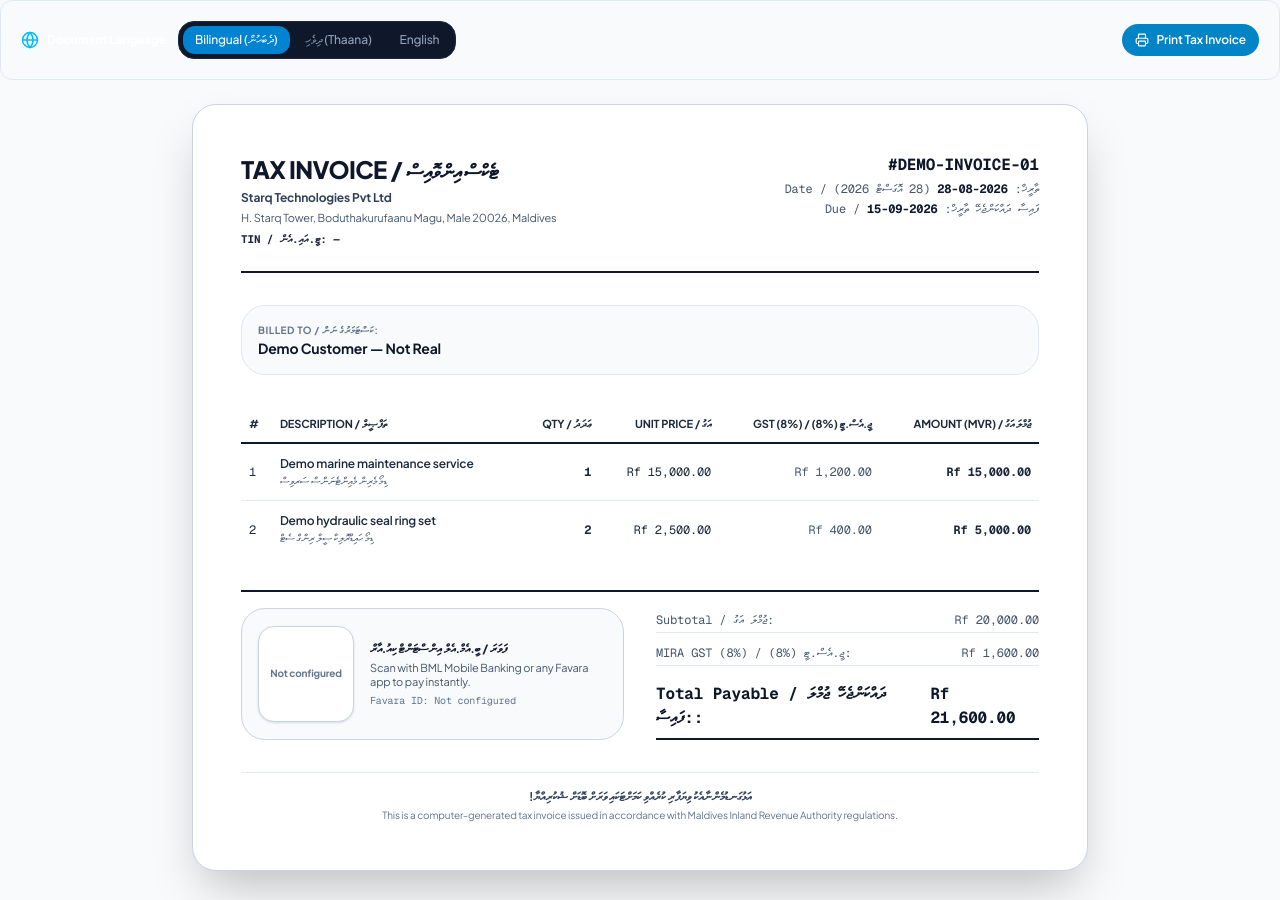
Test: SERP-323: Bilingual Dhivehi (Thaana) & English Invoice Print Interface › switches between Bilingual, Dhivehi Only, and English Only view modes
The image size is (1280, 900).
Click the button "ދިވެހި (Thaana)". click: (339, 40)
box: [294,26,384,54]
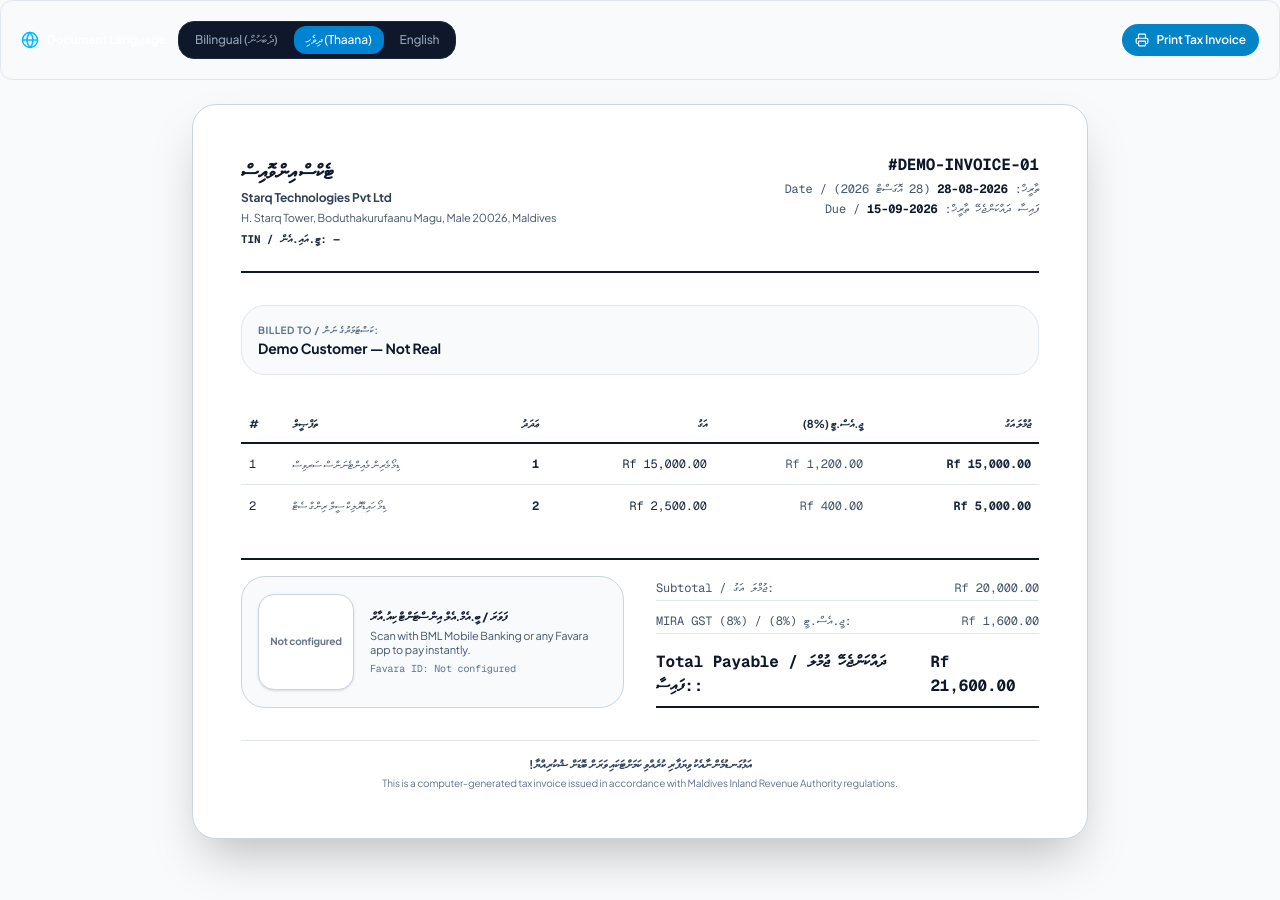
Expected: the text "ޓެކްސް އިންވޮއިސް" is shown, [241,159,332,185]
Click the button "English". click: (420, 40)
box: [388,26,451,54]
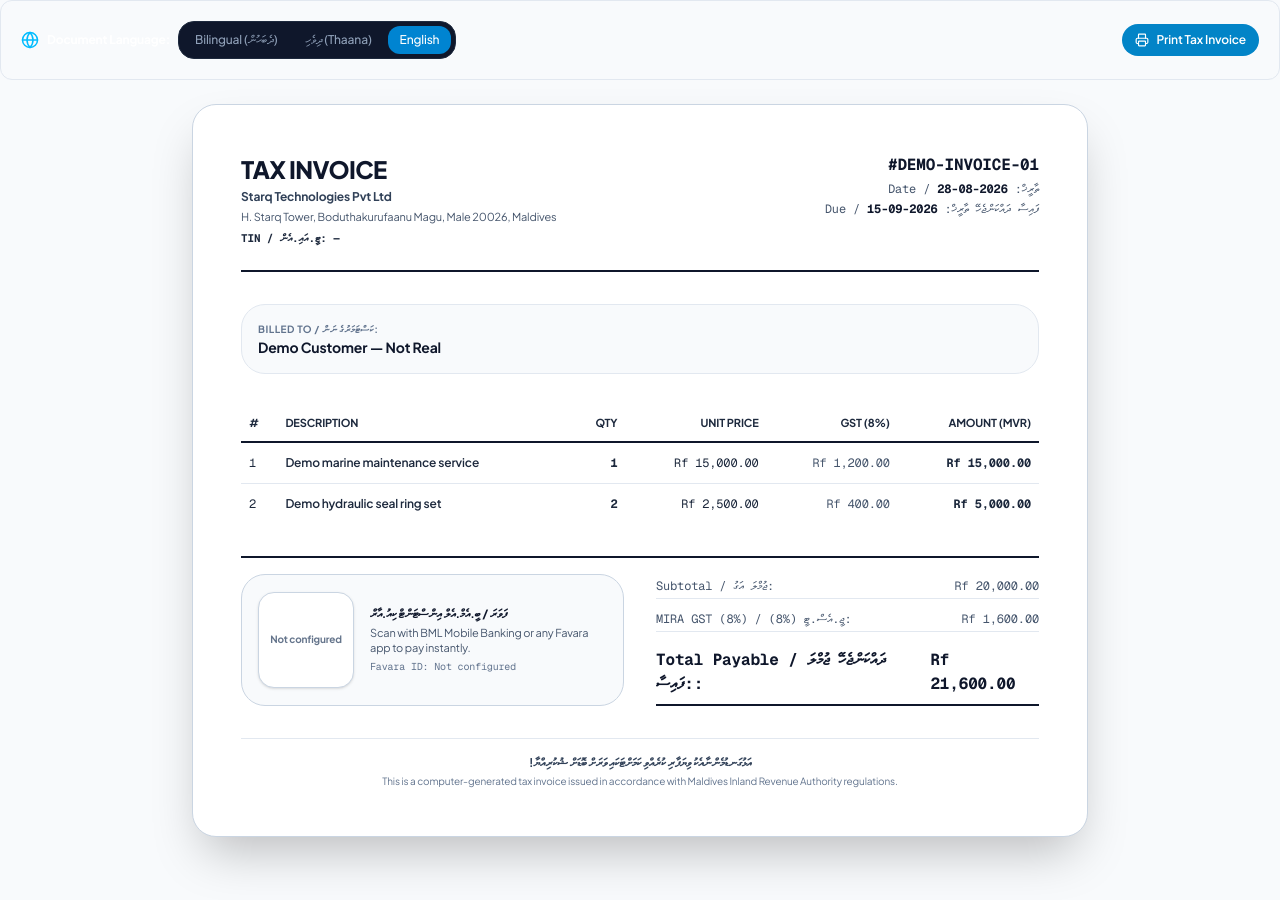
Expected: the heading "TAX INVOICE" is shown, [241,154,387,184]
